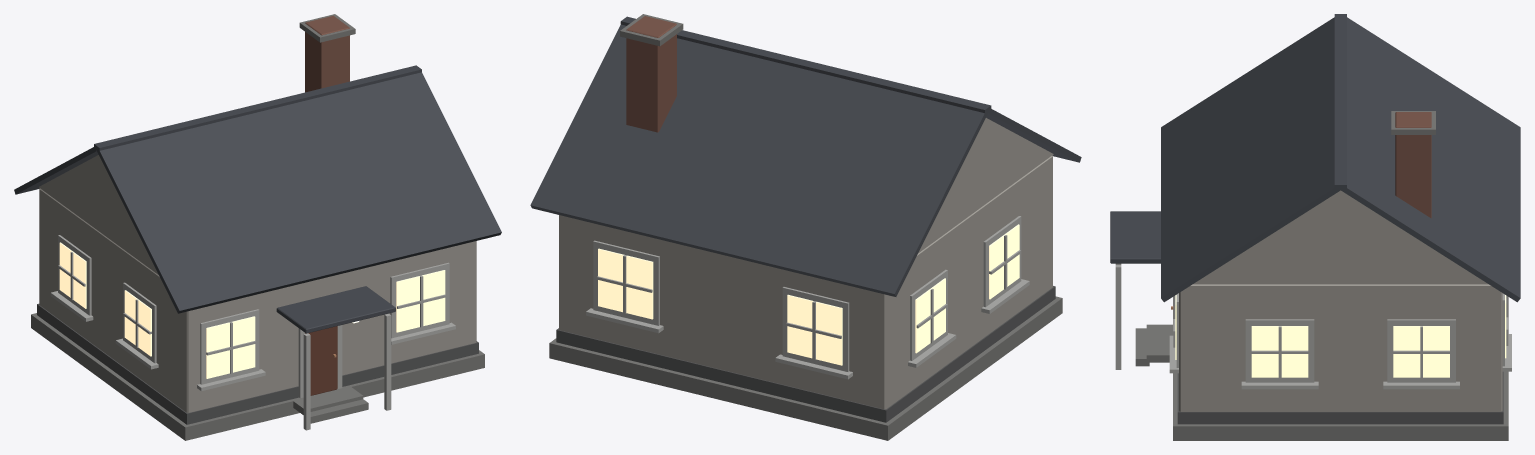
Rendered from house_a.glb.
3 renders of one model, left to right at view 1: azimuth 30°, elevation 25°; view 2: azimuth 150°, elevation 25°; view 3: azimuth 270°, elevation 25°, orthographic. The views are drawn at different scales.
Parts seen in each view (by area): view 1: roof, walls, windows, chimney, door; view 2: roof, walls, windows, chimney; view 3: walls, roof, windows, chimney.
Part boxes in pixels (left/top/right/bottom): roof: left=14, top=65, right=501, bottom=333; walls: left=31, top=155, right=484, bottom=440; windows: left=59, top=242, right=445, bottom=378; chimney: left=299, top=14, right=355, bottom=92; door: left=305, top=326, right=337, bottom=395; roof: left=530, top=16, right=1081, bottom=296; walls: left=549, top=118, right=1062, bottom=440; windows: left=598, top=224, right=1019, bottom=365; chimney: left=620, top=14, right=683, bottom=132; walls: left=1115, top=190, right=1511, bottom=440; roof: left=1110, top=14, right=1520, bottom=302; windows: left=1175, top=295, right=1506, bottom=377; chimney: left=1391, top=111, right=1435, bottom=218.
Bounding box in the file's own units: 10 × 8.1 × 10.15.
